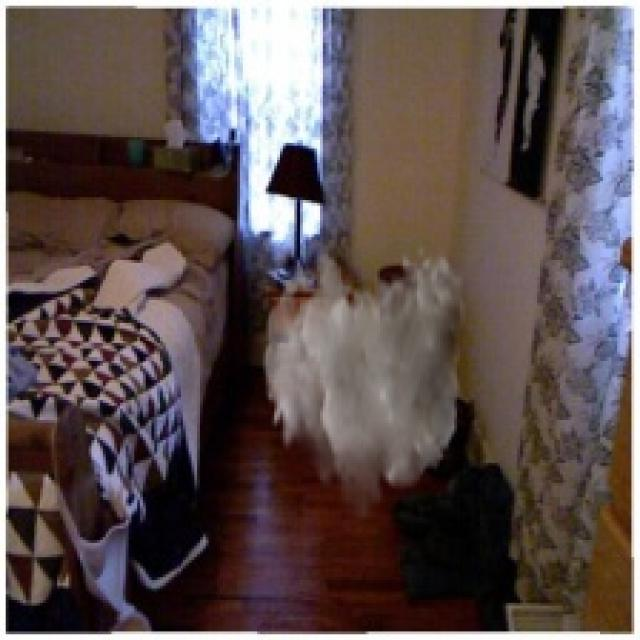smoke: (263, 243, 468, 523)
